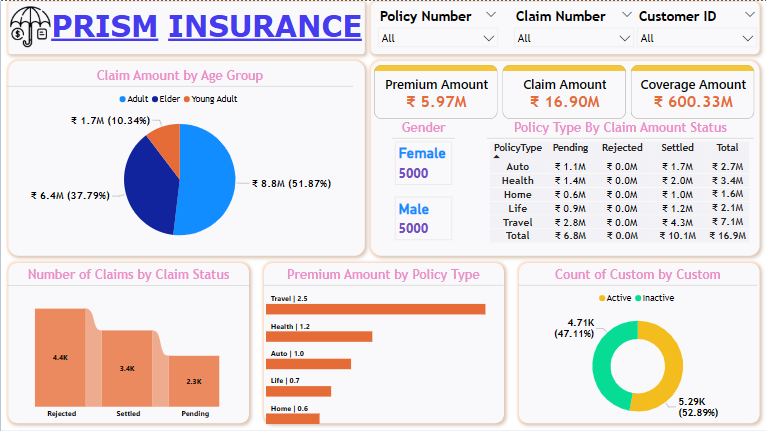

Layout of this report page (visuals, bound fields, positions):
{"tool":"powerbi","page":{"name":"Dashboard","canvas":[1280,720],"ordinal":0},"visuals":[{"type":"slicer","fields":{"Values":["Data.PolicyNumber"]},"box":[619.8,6.8,220,80],"z":0},{"type":"slicer","fields":{"Values":["Data.ClaimNumber"]},"box":[847.4,6.5,220,80],"z":1000},{"type":"slicer","fields":{"Values":["Data.CustomerID"]},"box":[1052.3,6.2,220,80],"z":2000},{"type":"textbox","box":[71.2,6.2,545,80],"z":3000},{"type":"multiRowCard","title":"Gender","fields":{"Values":["Data.Gender","Data.Gender1"]},"box":[653.1,193,105.5,245.3],"z":4000},{"type":"image","box":[11.2,0,77.5,86.2],"z":5000},{"type":"columnChart","title":"Number of Claims by Claim Status","fields":{"Category":["Data.ClaimStatus"],"Y":["CountNonNull(Data.ClaimStatus)"]},"box":[11.2,441.2,405,267.5],"z":6000},{"type":"clusteredBarChart","title":"Premium Amount by Policy Type","fields":{"Category":["Data.PolicyType"],"Y":["Data.Label Placeholder","Sum(Data.PremiumAmount)"]},"box":[439,443.2,400.7,267.1],"z":7000},{"type":"pieChart","title":"Claim Amount by Age Group","fields":{"Category":["Data.Age Group"],"Y":["Sum(Data.ClaimAmount)"]},"box":[10.7,107.3,579.2,314.6],"z":8000},{"type":"donutChart","fields":{"Category":["Data.Custom"],"Y":["CountNonNull(Data.Custom)"]},"box":[863.7,438.4,399.3,273.3],"z":9000},{"type":"pivotTable","title":"Policy Type By Claim Amount Status","fields":{"Columns":["Data.ClaimStatus"],"Values":["Sum(Data.ClaimAmount)"],"Rows":["Data.PolicyType"]},"box":[811.7,193,444.5,228.9],"z":10000},{"type":"cardVisual","title":"KPI","fields":{"Data":["Sum(Data.PremiumAmount)","Sum(Data.ClaimAmount)","Sum(Data.CoverageAmount)"]},"box":[617.5,101.2,645,100],"z":11000}]}

Visuals, with their boxes in screenshot pixels (x1, y1, x2, y2), scaled from the page's 1280x720 canvas onto the 766x433 screenshot:
slicer - Data.PolicyNumber: {"x1": 371, "y1": 4, "x2": 503, "y2": 52}
slicer - Data.ClaimNumber: {"x1": 507, "y1": 4, "x2": 639, "y2": 52}
slicer - Data.CustomerID: {"x1": 630, "y1": 4, "x2": 761, "y2": 52}
textbox: {"x1": 43, "y1": 4, "x2": 369, "y2": 52}
"Gender" multiRowCard: {"x1": 391, "y1": 116, "x2": 454, "y2": 264}
image: {"x1": 7, "y1": 0, "x2": 53, "y2": 52}
"Number of Claims by Claim Status" columnChart: {"x1": 7, "y1": 265, "x2": 249, "y2": 426}
"Premium Amount by Policy Type" clusteredBarChart: {"x1": 263, "y1": 267, "x2": 503, "y2": 427}
"Claim Amount by Age Group" pieChart: {"x1": 6, "y1": 65, "x2": 353, "y2": 254}
donutChart - Data.Custom x CountNonNull(Data.Custom): {"x1": 517, "y1": 264, "x2": 756, "y2": 428}
"Policy Type By Claim Amount Status" pivotTable: {"x1": 486, "y1": 116, "x2": 752, "y2": 254}
"KPI" cardVisual: {"x1": 370, "y1": 61, "x2": 756, "y2": 121}
